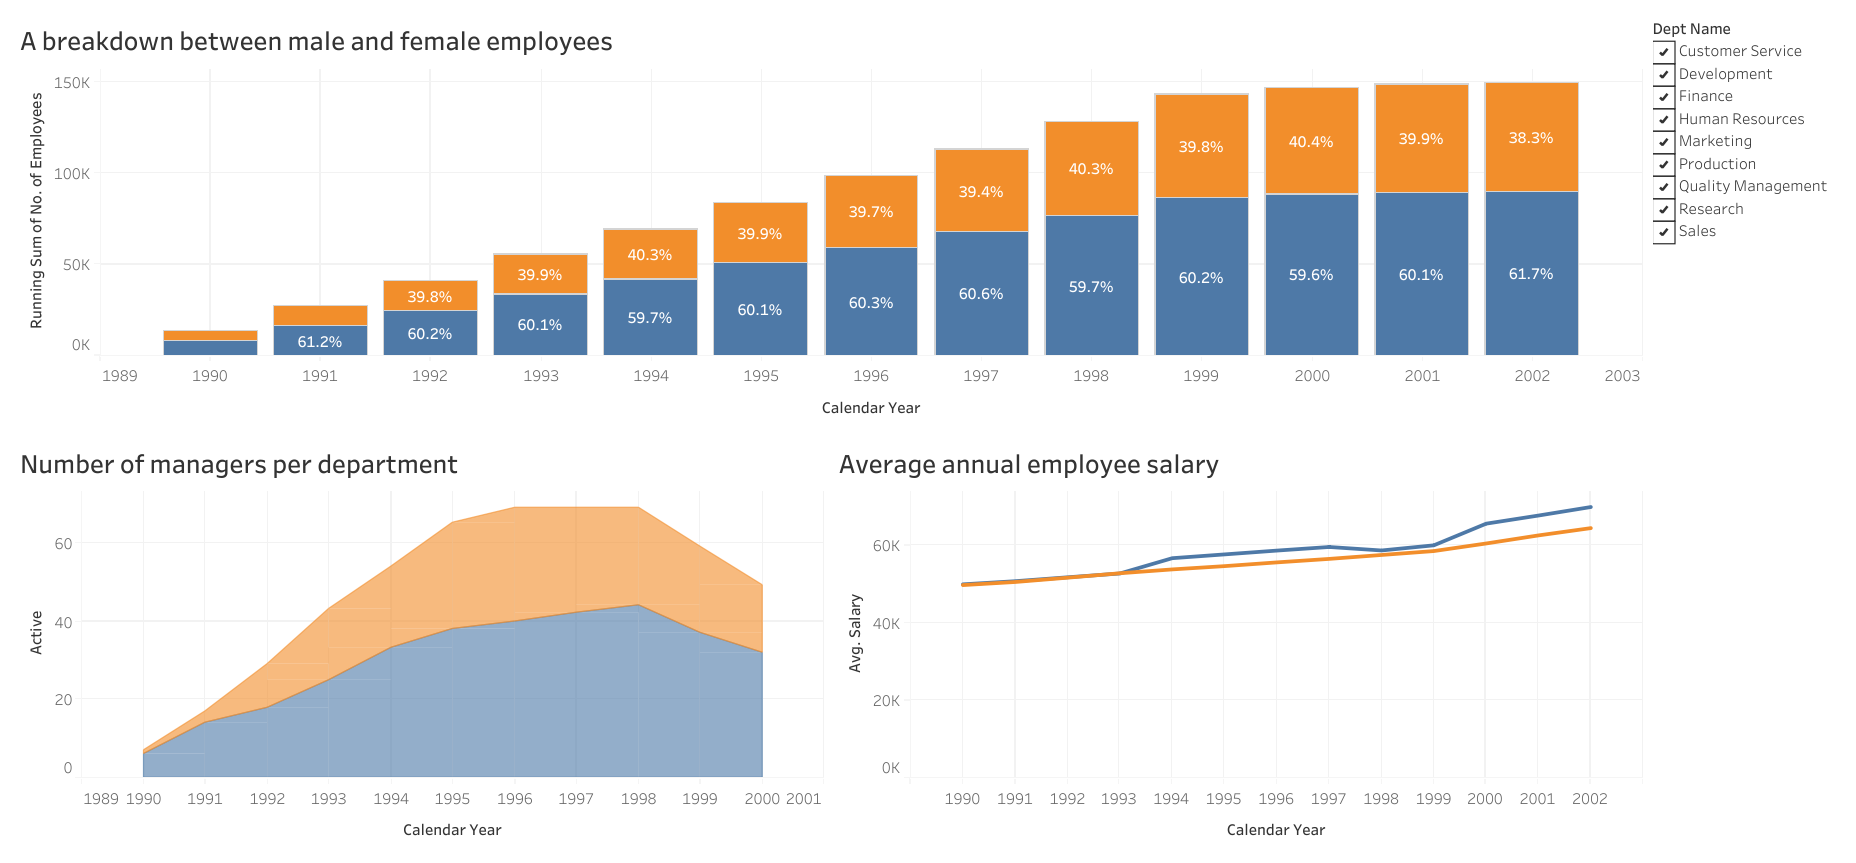

This screenshot's page, from the dashboard's own definition file:
{"tool":"tableau","page":{"name":"Dashboard 1","canvas":[1000,1000],"units":"permille","ordinal":0},"visuals":[{"type":"worksheet","box":[0,0,1000,1000]},{"type":"worksheet","param":"horz","box":[4.8,8.2,990.3,983.7]},{"type":"worksheet","box":[4.8,8.2,893.8,983.7]},{"type":"worksheet","title":"Chart 1","mark":"Bar","rows":["no_of_employees"],"cols":["calendar_year"],"box":[4.8,8.2,893.8,491.9]},{"type":"worksheet","param":"vert","box":[898.6,8.2,96.6,983.7]},{"type":"worksheet","title":"Chart 3","mark":"Automatic","rows":["salary"],"cols":["calendar_year"],"param":"[federated.1xfyet31crg6mt16yx0560d7bjxj].[none:dept_name:nk]","box":[898.6,8.2,96.6,271.1]},{"type":"worksheet","title":"Chart 2","mark":"Area","rows":["active"],"cols":["calendar_year"],"box":[4.8,500,446.9,491.9]},{"type":"worksheet","title":"Chart 3","mark":"Automatic","rows":["salary"],"cols":["calendar_year"],"box":[451.7,500,446.9,491.9]}]}

Visuals, with their boxes on the dashboard's canvas, which has no fixed pixel size, in thousandths of its width and height (x1, y1, x2, y2). These are canvas units, not pixel positions in the 1856x863 screenshot, which may show the page scaled, cropped or inside an application window:
worksheet: region(0, 0, 1000, 1000)
worksheet: region(5, 8, 995, 992)
worksheet: region(5, 8, 899, 992)
"Chart 1" worksheet (Bar marks): region(5, 8, 899, 500)
worksheet: region(899, 8, 995, 992)
"Chart 3" worksheet: region(899, 8, 995, 279)
"Chart 2" worksheet (Area marks): region(5, 500, 452, 992)
"Chart 3" worksheet: region(452, 500, 899, 992)
